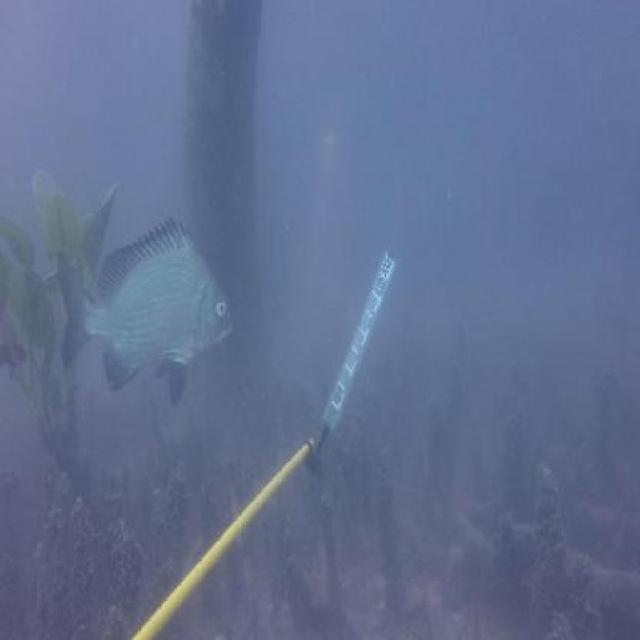acanthopagrus_palmaris: (51, 216, 242, 412)
